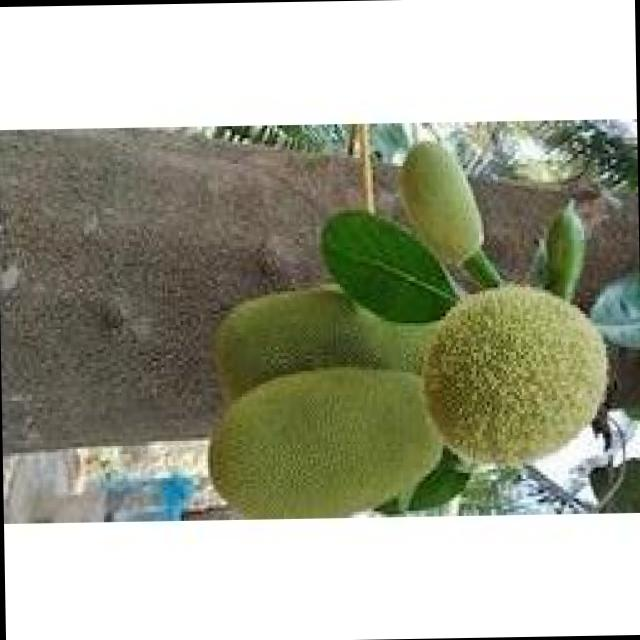Fruit: (196, 348, 468, 520), (417, 268, 626, 478)
